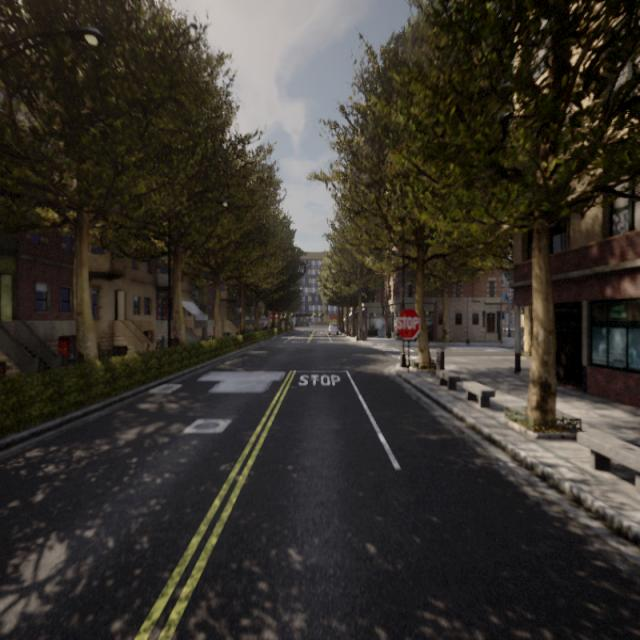stop sign: (392, 305, 422, 341), (394, 314, 420, 332)
